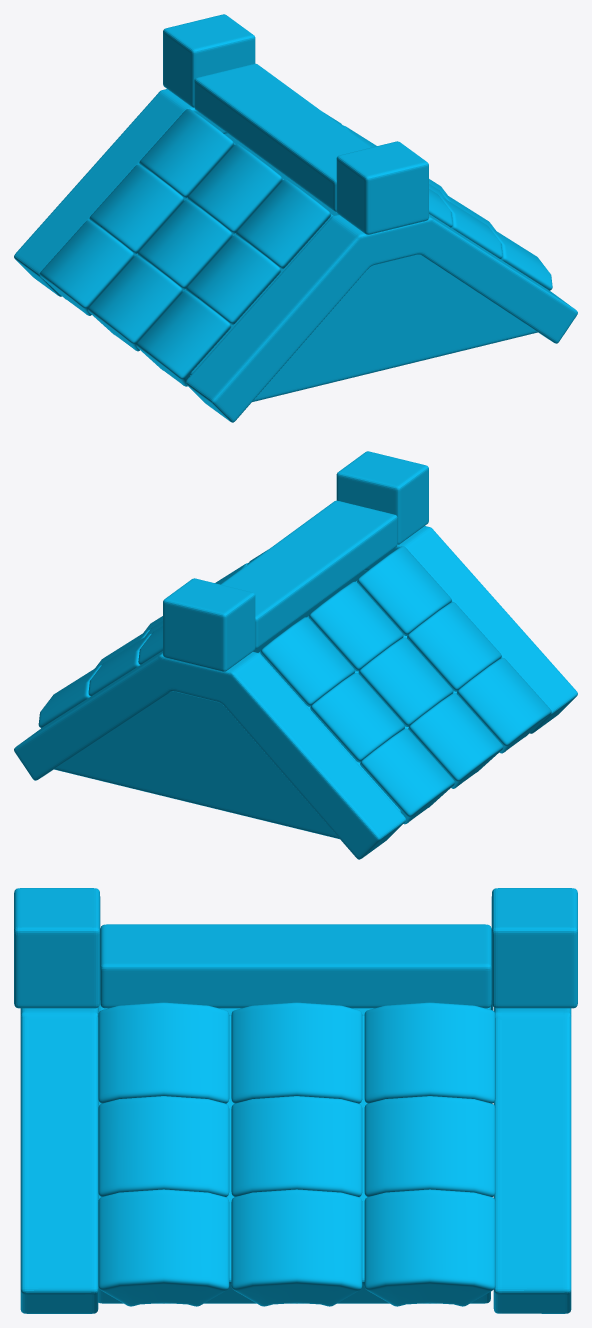
The model's file is SM_Brick_Roof_01.fbx.
The picture shows the model from 3 angles, top to bottom: view 1: azimuth 30°, elevation 25°; view 2: azimuth 150°, elevation 25°; view 3: azimuth 270°, elevation 25°; orthographic projection. The views are drawn at different scales.
Visible parts, largest first — view 1: SM_Brick_Roof_01; view 2: SM_Brick_Roof_01; view 3: SM_Brick_Roof_01.
Part boxes in pixels (x1,y1,x2,y2): SM_Brick_Roof_01: (14, 14, 577, 422); SM_Brick_Roof_01: (14, 451, 577, 859); SM_Brick_Roof_01: (14, 888, 577, 1313).
Bounding box in the file's own units: 2.8 × 1.48 × 2.55.
